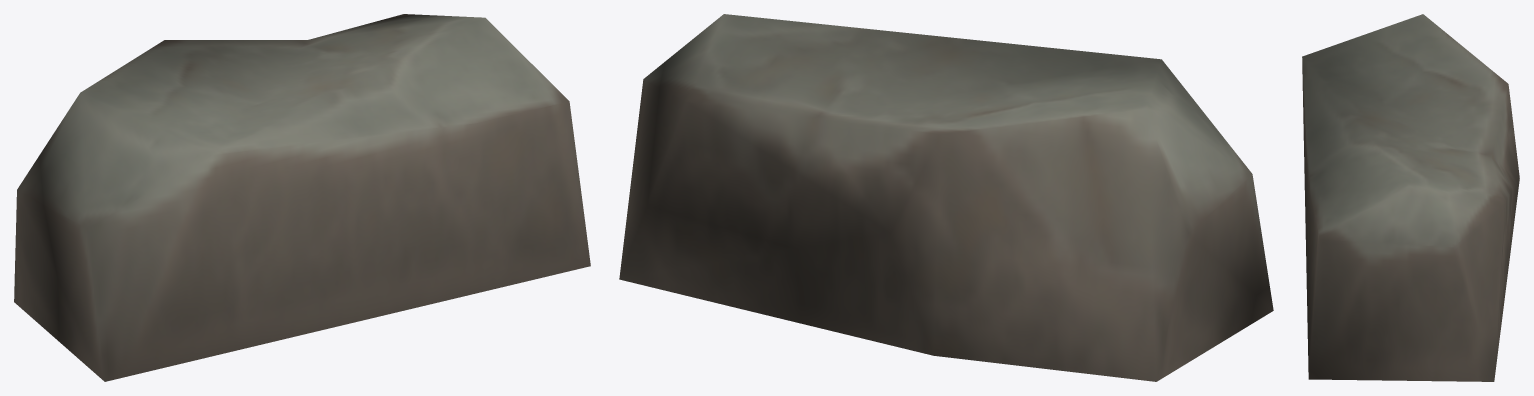
The model's file is SM_FW01_Floor_Debris_03.fbx.
3 renders of one model, left to right at view 1: azimuth 30°, elevation 25°; view 2: azimuth 150°, elevation 25°; view 3: azimuth 270°, elevation 25°, orthographic. The views are drawn at different scales.
Parts seen in each view (by area): view 1: SM_FW01_Floor_Debris_03; view 2: SM_FW01_Floor_Debris_03; view 3: SM_FW01_Floor_Debris_03.
Part boxes in pixels (bbox=[...]): SM_FW01_Floor_Debris_03: bbox=[14, 14, 590, 381]; SM_FW01_Floor_Debris_03: bbox=[619, 14, 1273, 381]; SM_FW01_Floor_Debris_03: bbox=[1302, 14, 1519, 381].
Bounding box in the file's own units: 0.4701 × 0.2112 × 0.218.
